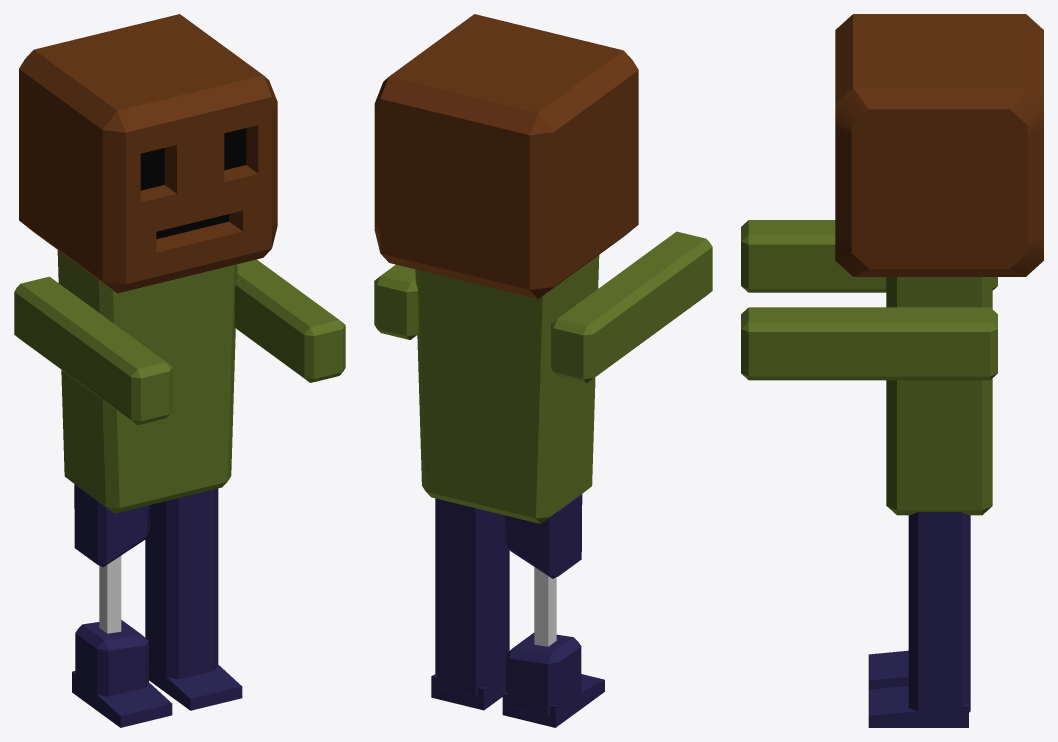
The model's file is zombie.fbx.
The picture shows the model from 3 angles, left to right: view 1: azimuth 30°, elevation 25°; view 2: azimuth 150°, elevation 25°; view 3: azimuth 270°, elevation 25°; orthographic projection. The views are drawn at different scales.
Parts seen in each view (by area): view 1: head, body, left_leg, right_arm, left_arm, bottom_right_leg, top_right_leg, right_foot, left_foot, bone, right_eye, left_eye (+1 smaller); view 2: head, body, left_leg, right_arm, bottom_right_leg, top_right_leg, left_arm, bone, right_foot, left_foot; view 3: head, left_arm, body, left_leg, right_arm, left_foot, right_foot.
Boxes of the visible parts, x1,y1,x2,y2 form: head: [19, 14, 277, 293]; body: [57, 250, 237, 513]; left_leg: [145, 488, 218, 681]; right_arm: [14, 276, 172, 425]; left_arm: [234, 259, 345, 382]; bottom_right_leg: [75, 620, 148, 699]; top_right_leg: [74, 484, 149, 567]; right_foot: [72, 671, 172, 727]; left_foot: [149, 664, 242, 710]; bone: [99, 556, 121, 633]; right_eye: [140, 148, 164, 190]; left_eye: [224, 128, 246, 170]; head: [374, 14, 638, 299]; body: [415, 255, 599, 523]; left_leg: [435, 498, 509, 697]; right_arm: [551, 231, 712, 383]; bottom_right_leg: [506, 632, 581, 716]; top_right_leg: [505, 494, 582, 578]; left_arm: [374, 264, 418, 339]; bone: [534, 567, 556, 646]; right_foot: [502, 674, 604, 727]; left_foot: [431, 674, 505, 710]; head: [835, 14, 1043, 276]; left_arm: [741, 307, 997, 380]; body: [886, 277, 992, 515]; left_leg: [908, 512, 970, 712]; right_arm: [741, 220, 997, 292]; left_foot: [868, 686, 968, 727]; right_foot: [868, 650, 908, 689].
Size of the model in its own units: 1.23 by 3.42 by 1.45.
